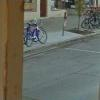Bicycle: (23, 15, 50, 50)
